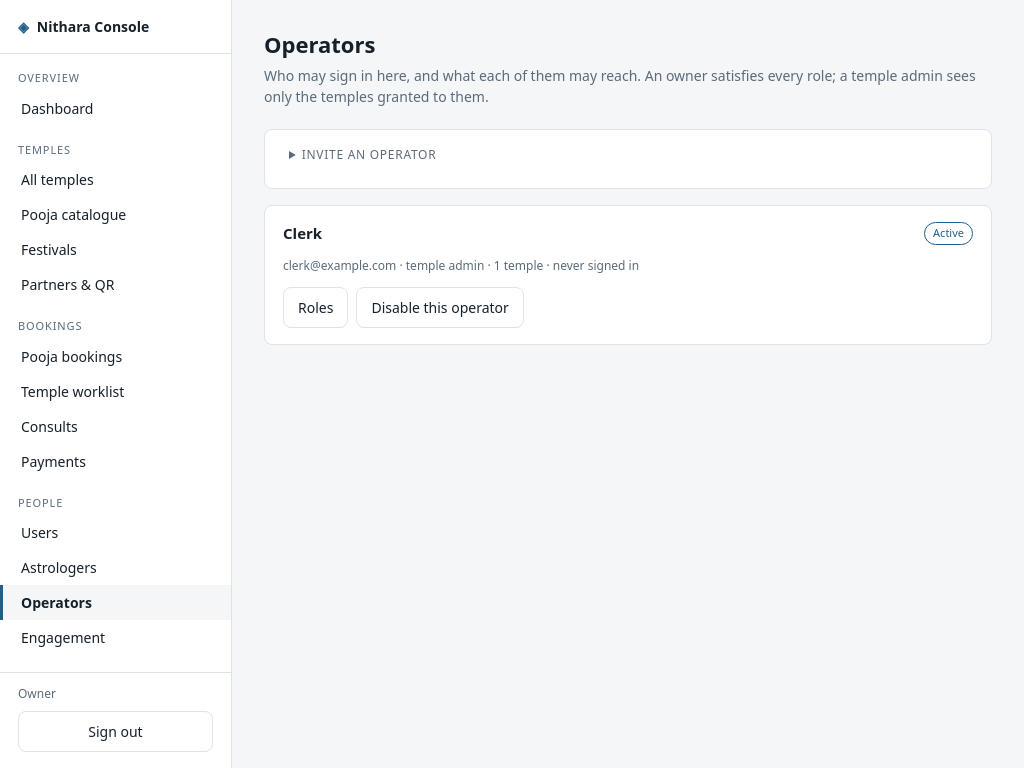
Test case: operators › explains that the invite has to be passed on by hand
The image size is (1024, 768).
Click the heading "Invite an operator".
click(369, 154)  # box x1=302 y1=146 x2=436 y2=163
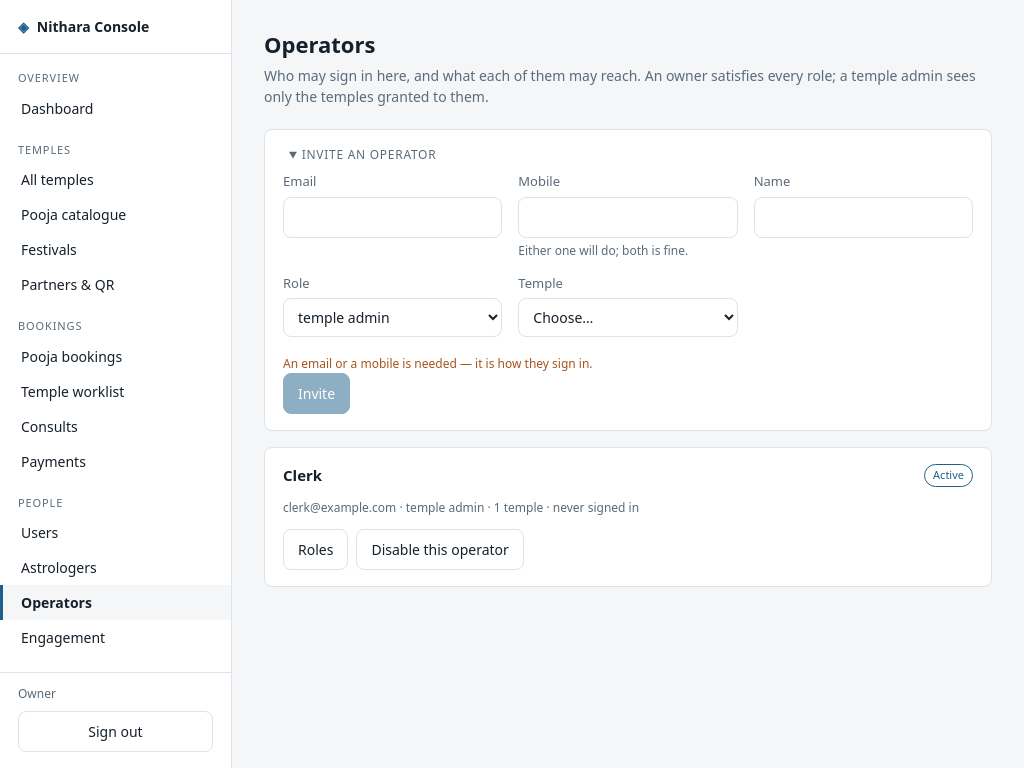
expect the text "An email or a mobile is needed — it is how they sign in." is shown: met, box x1=283 y1=355 x2=593 y2=372
